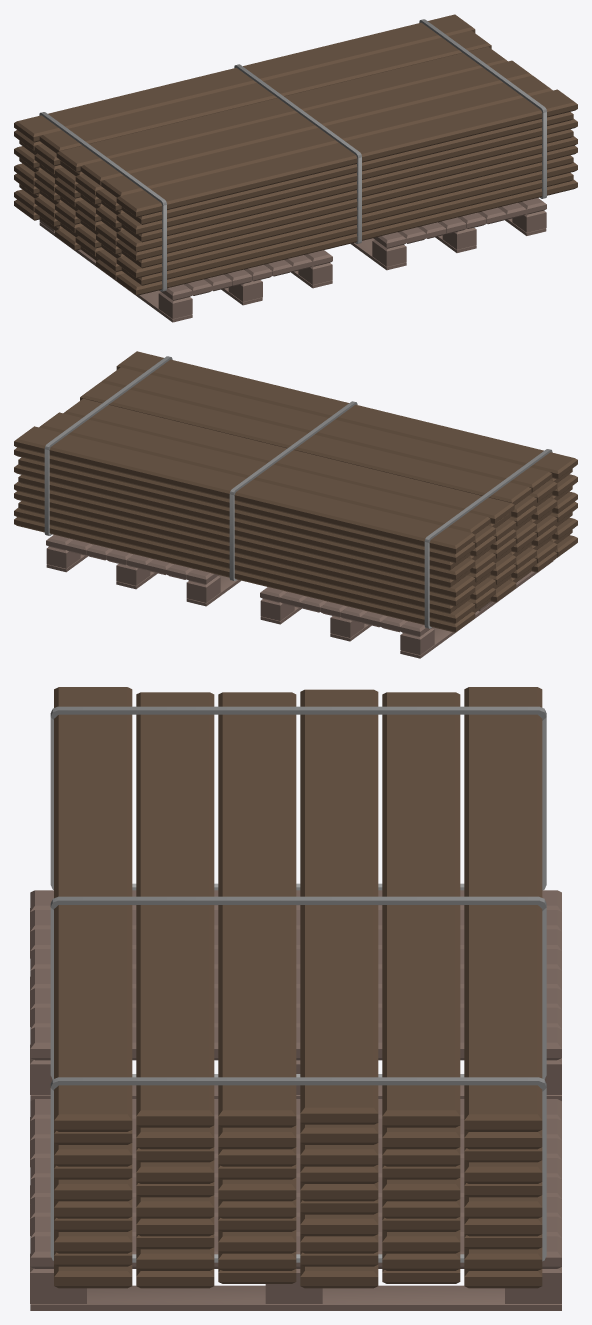
The model's file is props_01.glb.
3 views of the same model, one above another, from view 1: azimuth 30°, elevation 25°; view 2: azimuth 150°, elevation 25°; view 3: azimuth 270°, elevation 25° (orthographic). The views are drawn at different scales.
Visible parts, largest first — view 1: props_01; view 2: props_01; view 3: props_01.
Part boxes in pixels (x1,y1,x2,y2): props_01: (14, 14, 577, 322); props_01: (14, 351, 577, 658); props_01: (30, 687, 561, 1310).
Size of the model in its own units: 5.47 by 1.4 by 2.85.
Materials: 1 (1 with a texture image).
